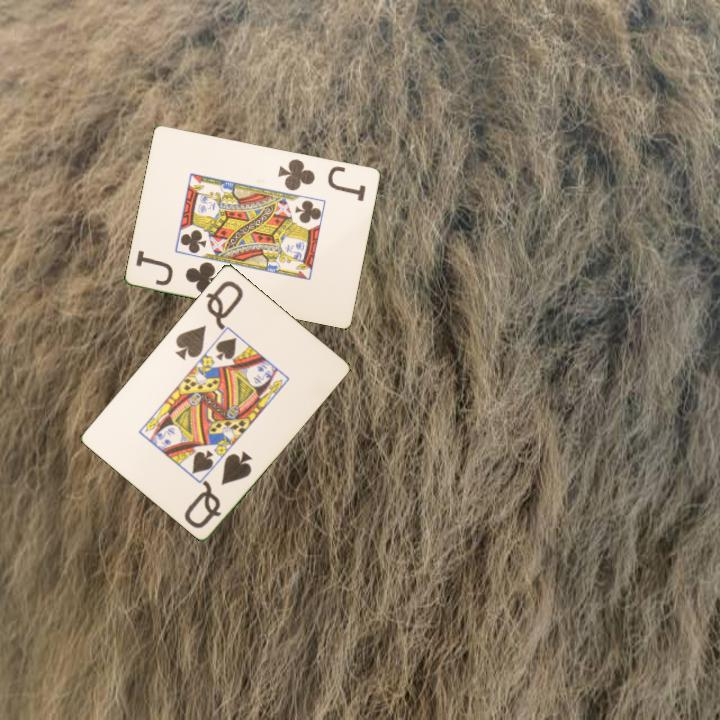Jc: (275, 155, 369, 204), (132, 247, 225, 296)
Qs: (171, 276, 246, 362), (180, 447, 255, 531)
